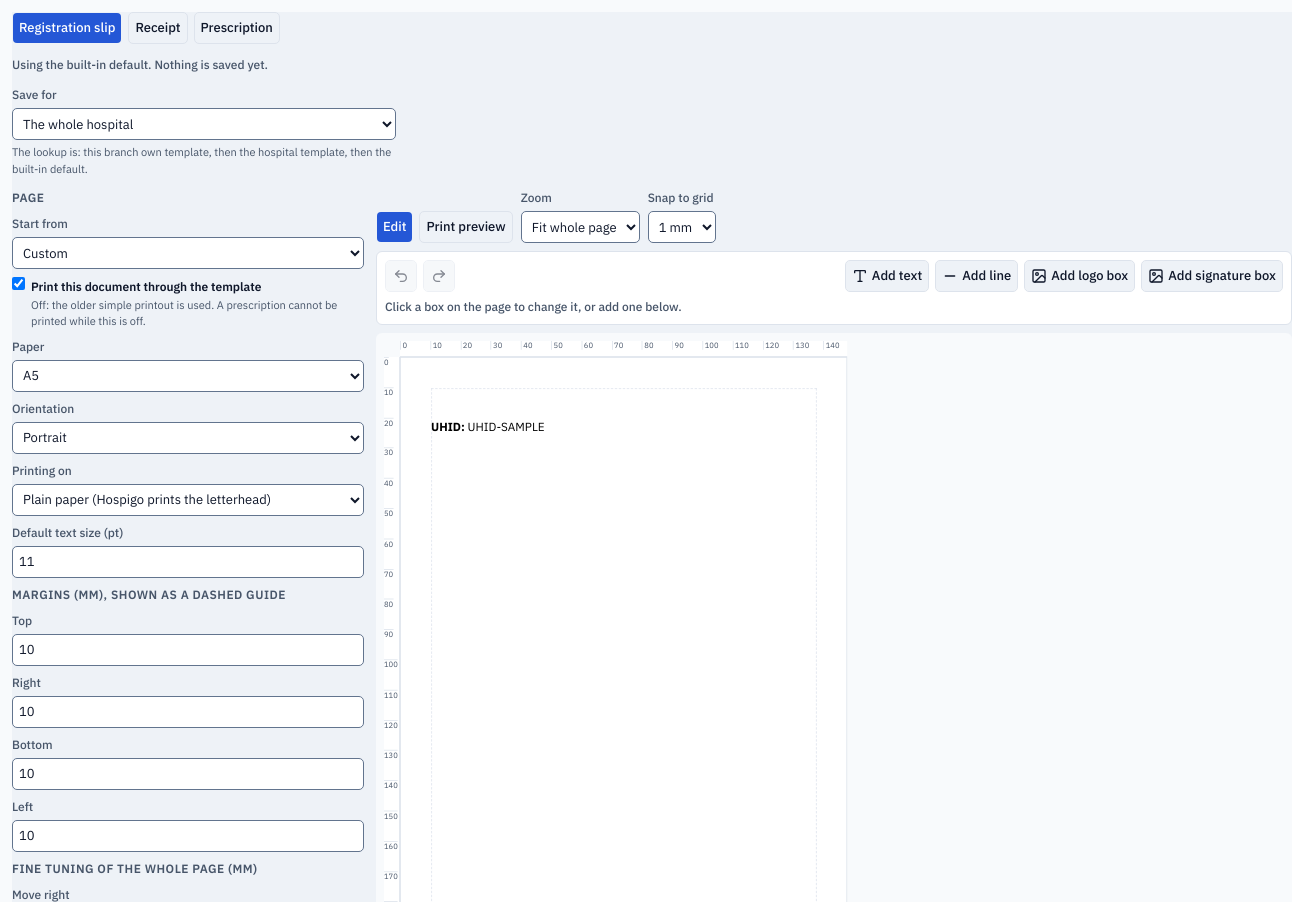
Scenario: the page › draws sample values and the real hospital name, with the words in front
The image size is (1292, 902).
Click the button "Receipt" at (158, 28), box [128,12,188,44]
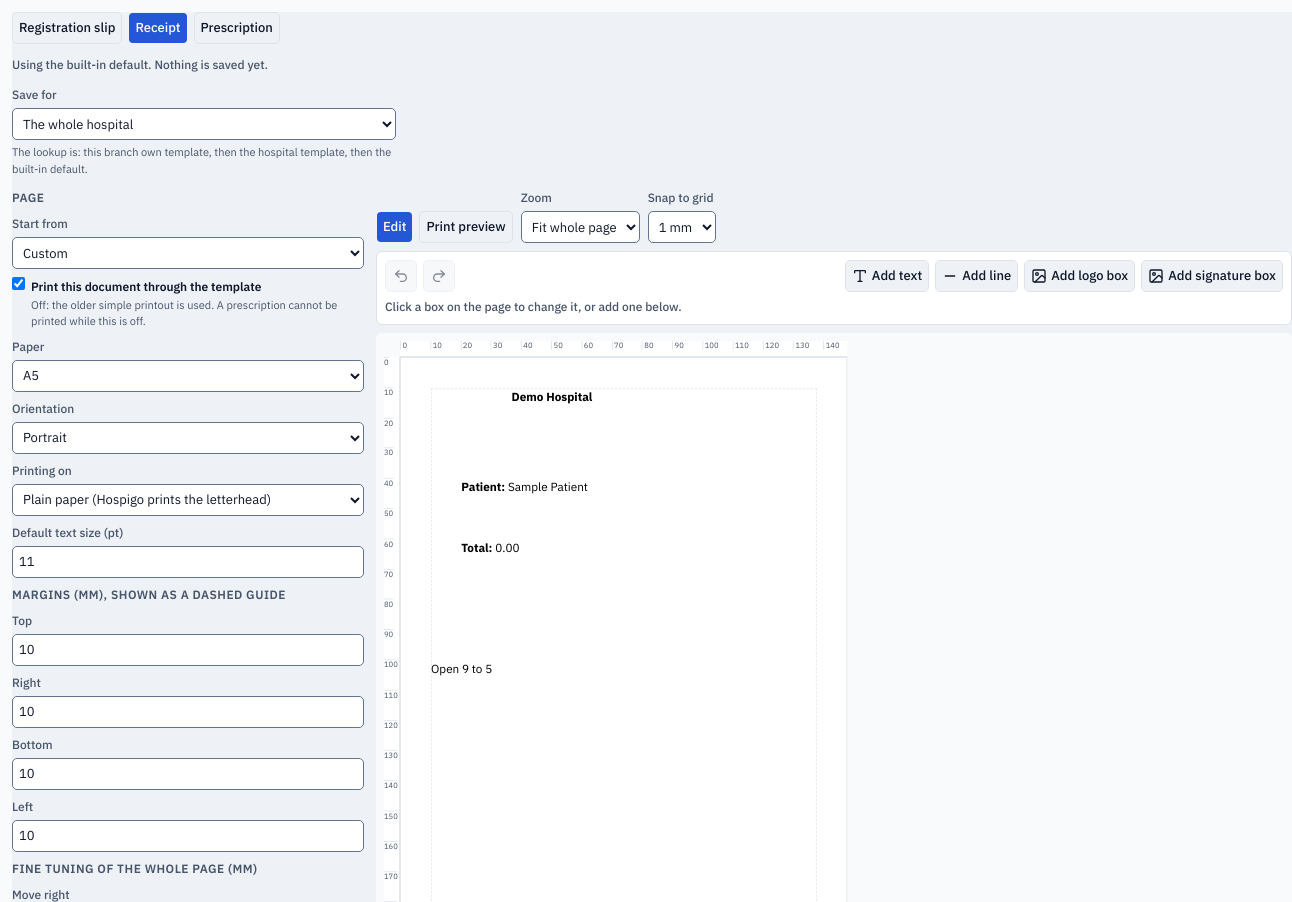
Check: the button "Demo Hospital" is shown, box [512,389,592,404]
Check: the button "Open 9 to 5" is shown, box [431,661,492,676]
